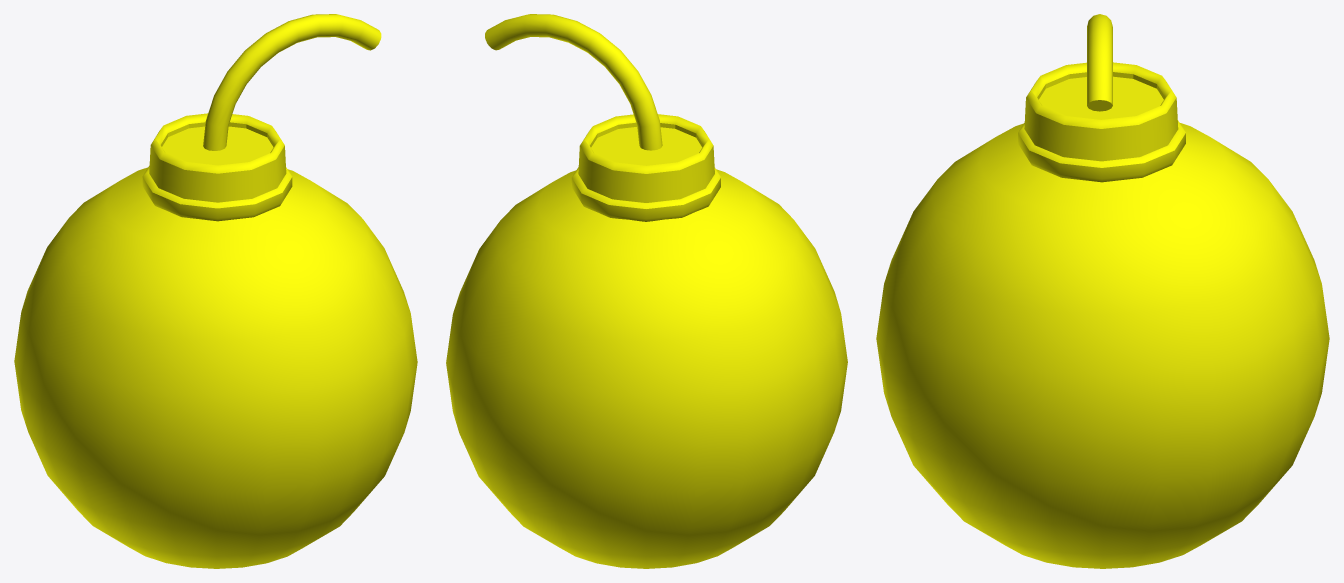
File: Bomb.glb
3 views of the same model, side by side, from view 1: azimuth 30°, elevation 25°; view 2: azimuth 150°, elevation 25°; view 3: azimuth 270°, elevation 25° (orthographic). The views are drawn at different scales.
Visible parts, largest first — view 1: bomb_001; view 2: bomb_001; view 3: bomb_001.
Boxes of the visible parts, left/top/right/bottom form: bomb_001: left=14, top=14, right=417, bottom=568; bomb_001: left=446, top=14, right=847, bottom=568; bomb_001: left=876, top=14, right=1329, bottom=568.
Bounding box in the file's own units: 0.3341 × 0.4678 × 0.338.
Materials: 2 (1 with a texture image).
